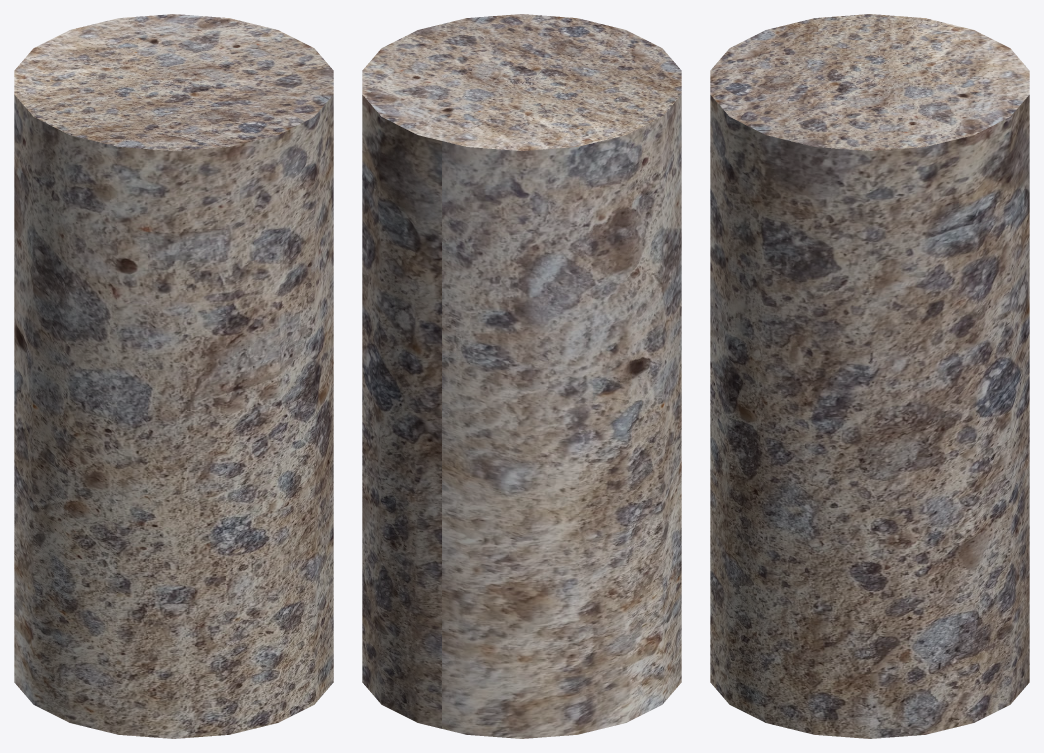
File: columna_circulo.obj
3 views of the same model, side by side, from view 1: azimuth 30°, elevation 25°; view 2: azimuth 150°, elevation 25°; view 3: azimuth 270°, elevation 25° (orthographic).
Parts seen in each view (by area): view 1: Cylinder001; view 2: Cylinder001; view 3: Cylinder001.
Boxes of the visible parts, x1=… form: Cylinder001: x1=14, y1=14, x2=333, y2=738; Cylinder001: x1=362, y1=14, x2=681, y2=738; Cylinder001: x1=710, y1=14, x2=1029, y2=738.
Bounding box in the file's own units: 20 × 40 × 19.7.
Materials: 1 (1 with a texture image).
